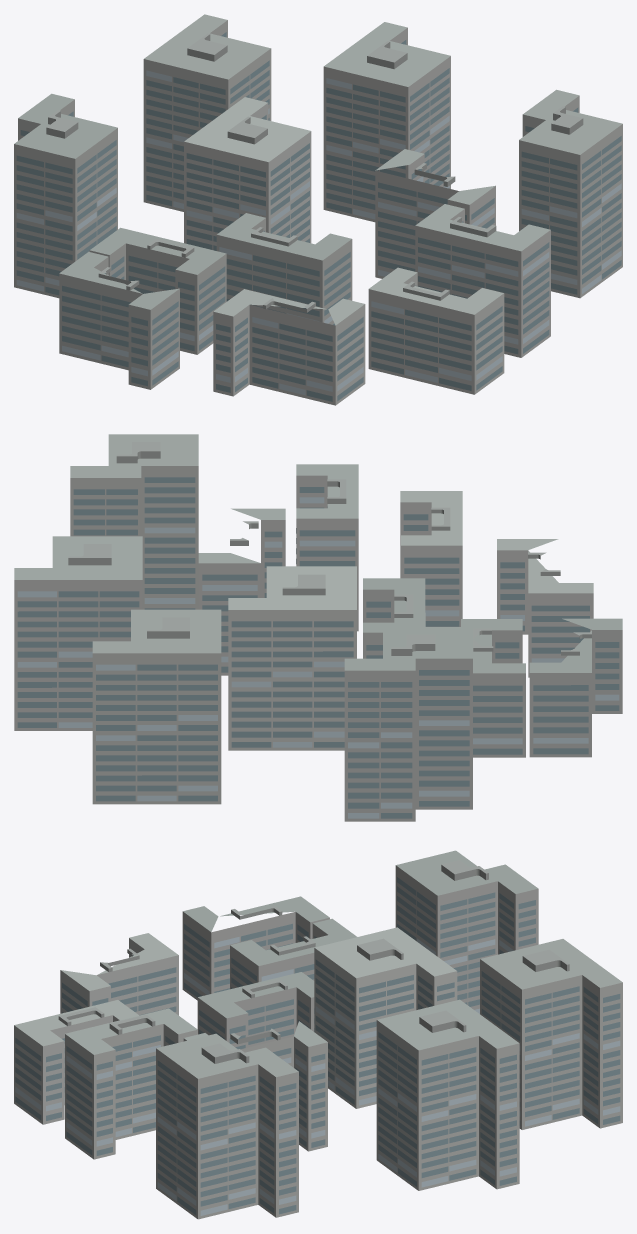
File: apt-a13520004.glb
The picture shows the model from 3 angles, top to bottom: view 1: azimuth 30°, elevation 25°; view 2: azimuth 150°, elevation 25°; view 3: azimuth 270°, elevation 25°; orthographic projection. The views are drawn at different scales.
Visible parts, largest first — view 1: apt-a13520004; view 2: apt-a13520004; view 3: apt-a13520004.
Boxes of the visible parts, left/top/right/bottom form: apt-a13520004: left=14, top=14, right=622, bottom=405; apt-a13520004: left=14, top=434, right=622, bottom=821; apt-a13520004: left=14, top=850, right=622, bottom=1219.
Bounding box in the file's own units: 153 × 43 × 161.
